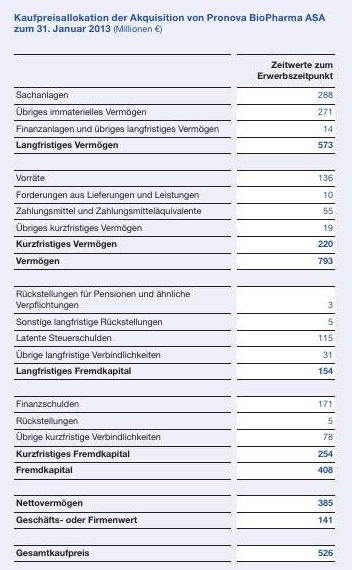table: (0, 0, 352, 570)
